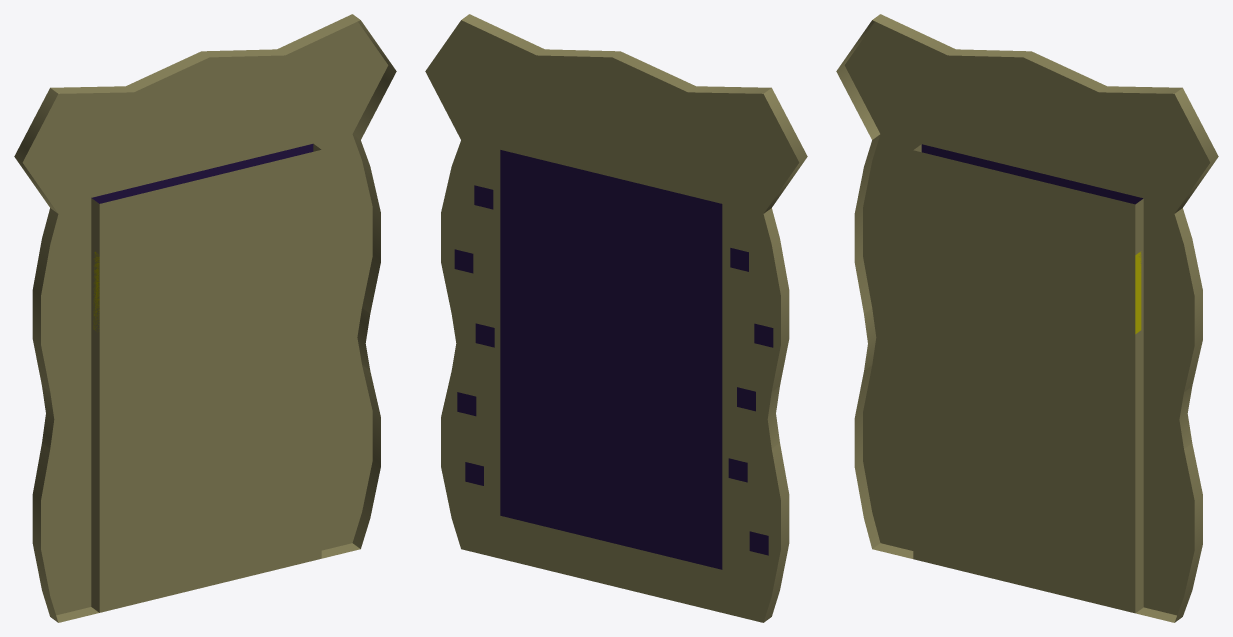
File: PlinkoMachine_Pegs_MDL.fbx
3 renders of one model, left to right at view 1: azimuth 30°, elevation 25°; view 2: azimuth 150°, elevation 25°; view 3: azimuth 330°, elevation 25°, orthographic.
Visible parts, largest first — view 1: PlinkoMachine_MainBase_MDL, PlinkoMachine_GlassPane_MDL; view 2: PlinkoMachine_MainBase_MDL, PlinkoMachine_GlassPane_MDL; view 3: PlinkoMachine_MainBase_MDL, PlinkoMachine_GlassPane_MDL, PlinkoMachine_PegRowB_MDL.
Boxes of the visible parts, x1,y1,x2,y2 form: PlinkoMachine_MainBase_MDL: [14, 14, 396, 622]; PlinkoMachine_GlassPane_MDL: [91, 144, 313, 203]; PlinkoMachine_MainBase_MDL: [425, 14, 807, 622]; PlinkoMachine_GlassPane_MDL: [500, 150, 722, 569]; PlinkoMachine_MainBase_MDL: [836, 14, 1218, 622]; PlinkoMachine_GlassPane_MDL: [921, 144, 1143, 204]; PlinkoMachine_PegRowB_MDL: [1135, 251, 1141, 334].
Bounding box in the file's own units: 182 × 246 × 7.1.
